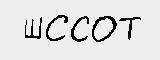О: (94, 15, 117, 43)
С: (46, 15, 68, 45), (71, 13, 90, 44)
Т: (120, 15, 142, 42)
Ш: (22, 17, 44, 40)
